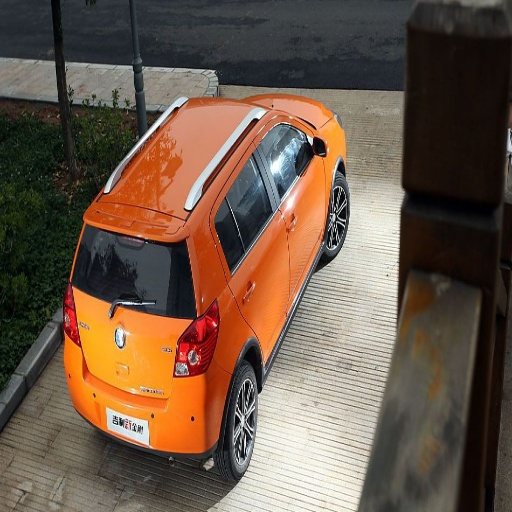back_bumper: (69, 340, 230, 450)
back_glass: (90, 255, 181, 303)
back_right_door: (216, 155, 286, 248)
trunk: (77, 291, 192, 406), (111, 195, 184, 245)
